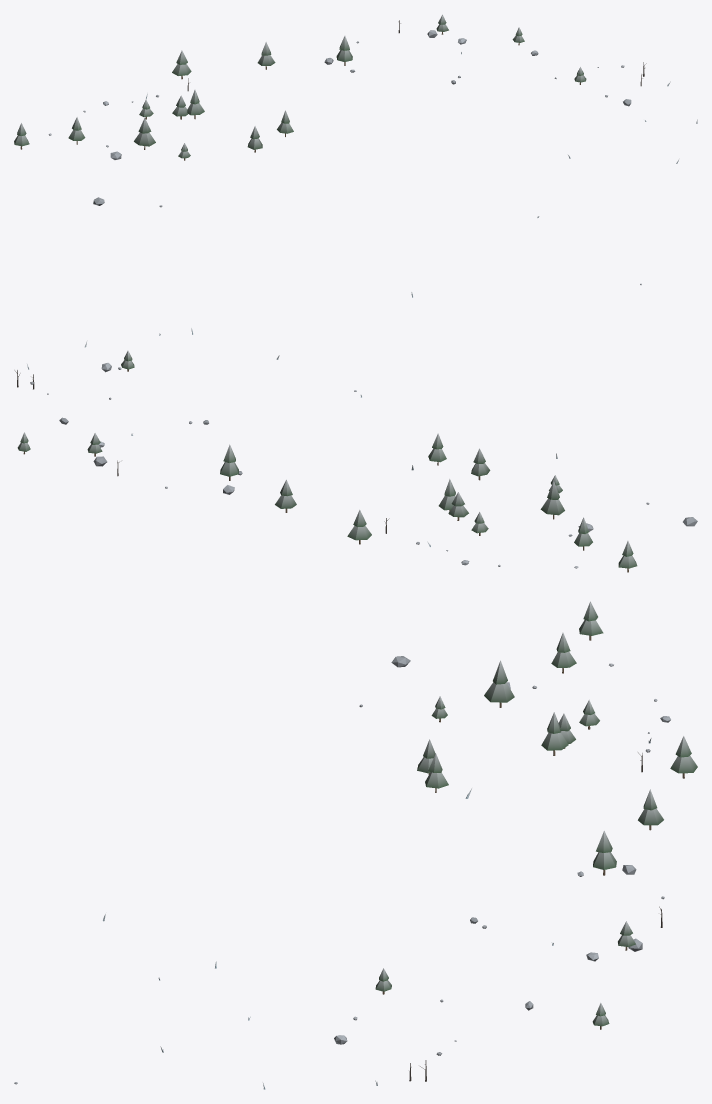
File: frost_land_scatter_c19_13_lod1.glb
3 views of the same model, one above another, from view 1: azimuth 30°, elevation 25°; view 2: azimuth 150°, elevation 25°; view 3: azimuth 270°, elevation 25° (orthographic). The views are drawn at different scales.
Visible parts, largest first — view 1: frost_land_scatter_c19_13_lod1; view 2: frost_land_scatter_c19_13_lod1; view 3: frost_land_scatter_c19_13_lod1.
Part boxes in pixels (<box>): frost_land_scatter_c19_13_lod1: <box>14,14,697,297</box>; frost_land_scatter_c19_13_lod1: <box>14,328,697,572</box>; frost_land_scatter_c19_13_lod1: <box>14,601,697,1089</box>.
Bounding box in the file's own units: 258 × 53.84 × 178.
